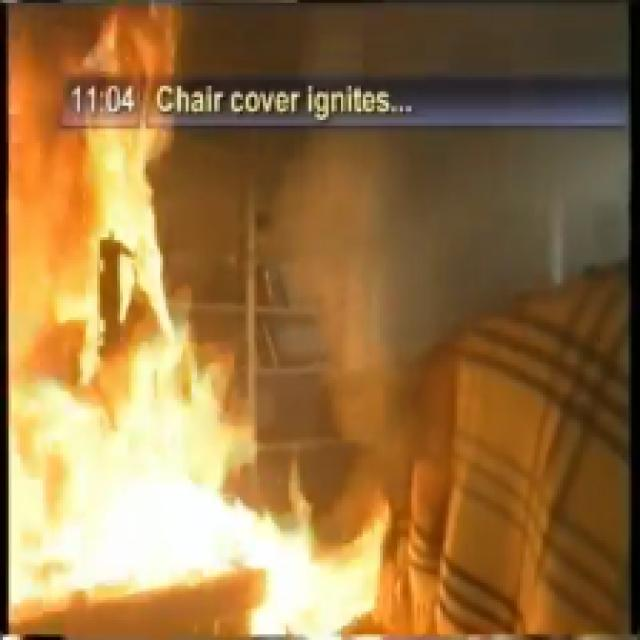Fire: (42, 6, 189, 603), (184, 406, 379, 620)
Smoke: (320, 163, 576, 306)
